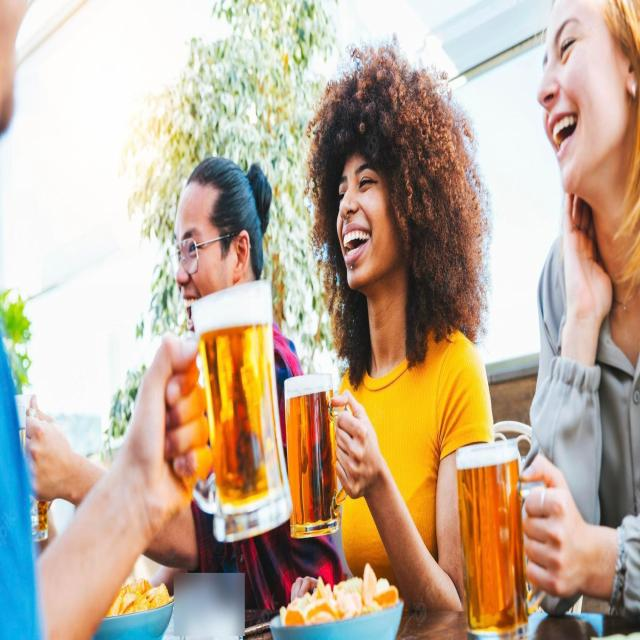glass-mug: (168, 266, 290, 538), (453, 430, 550, 640), (282, 370, 358, 539)
